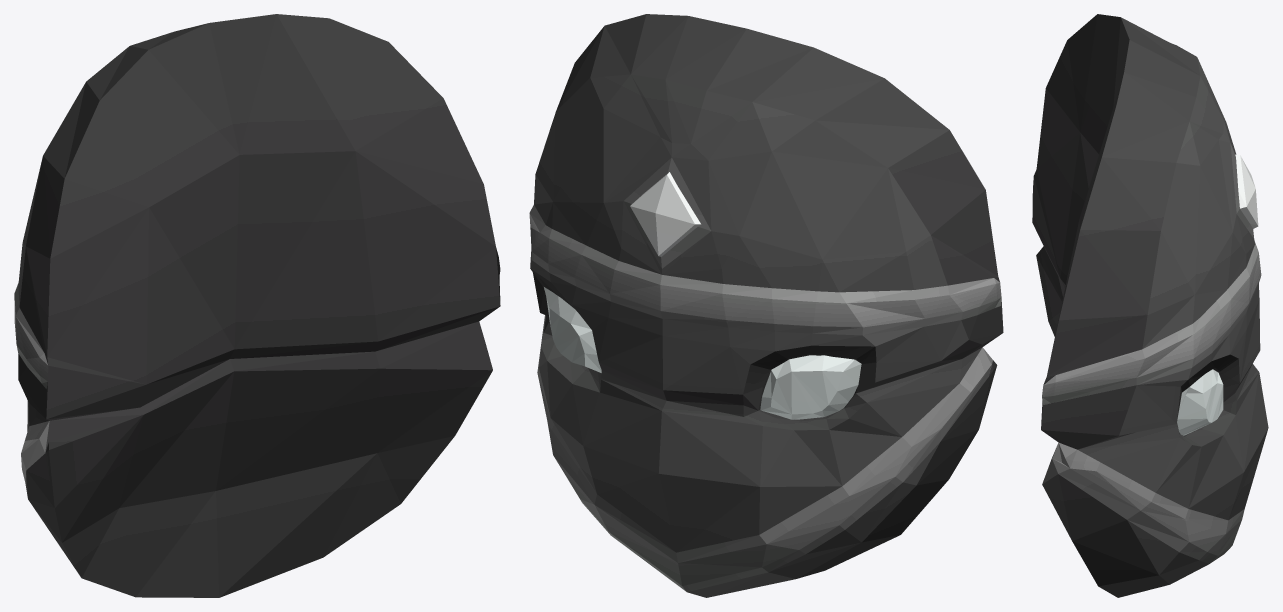
File: CharSkyKid_Mask_Traveler_02.glb
The picture shows the model from 3 angles, left to right: view 1: azimuth 30°, elevation 25°; view 2: azimuth 150°, elevation 25°; view 3: azimuth 270°, elevation 25°; orthographic projection. The views are drawn at different scales.
Visible parts, largest first — view 1: CharSkyKid_Mask_Traveler_02; view 2: CharSkyKid_Mask_Traveler_02; view 3: CharSkyKid_Mask_Traveler_02.
Boxes of the visible parts, x1,y1,x2,y2 form: CharSkyKid_Mask_Traveler_02: (14,14,500,597); CharSkyKid_Mask_Traveler_02: (529,14,1003,597); CharSkyKid_Mask_Traveler_02: (1032,14,1268,597).
Bounding box in the file's own units: 2.14 × 2.58 × 1.04.
1 material, 1 textured.
